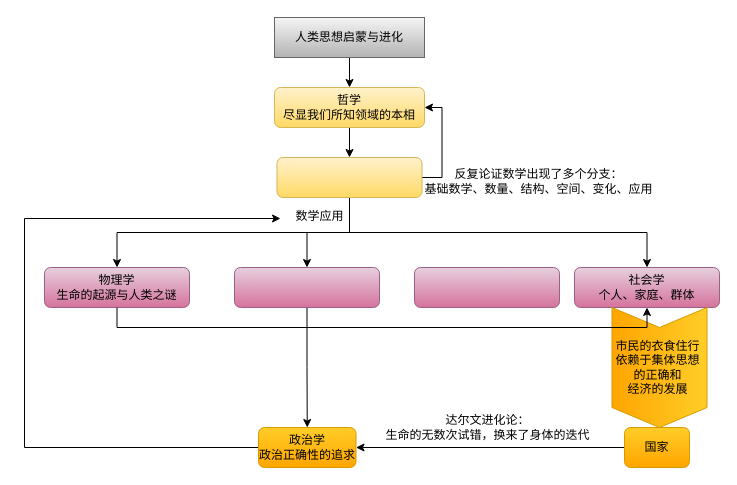
Image size: 737x485. Some labels were removed from this diagram. The shapes that lost their labels are listed below. From the top down, each one's centre as x and y in pixels, then its label:
the point at 349,177: 数学 认知世界的工具
the point at 307,287: 经济学 生命的起源与人类之谜
the point at 487,287: 生物学 生命的起源与人类之谜
